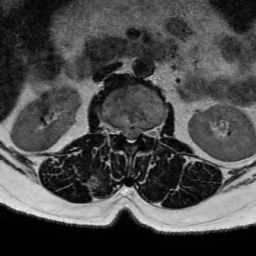CCS_normal: (127, 118, 134, 148)
LFS_stenosis: (142, 119, 150, 144)
LLS_stenosis: (134, 118, 141, 143)
RFS_normal: (112, 118, 120, 140)
RLS_normal: (120, 118, 127, 143)
